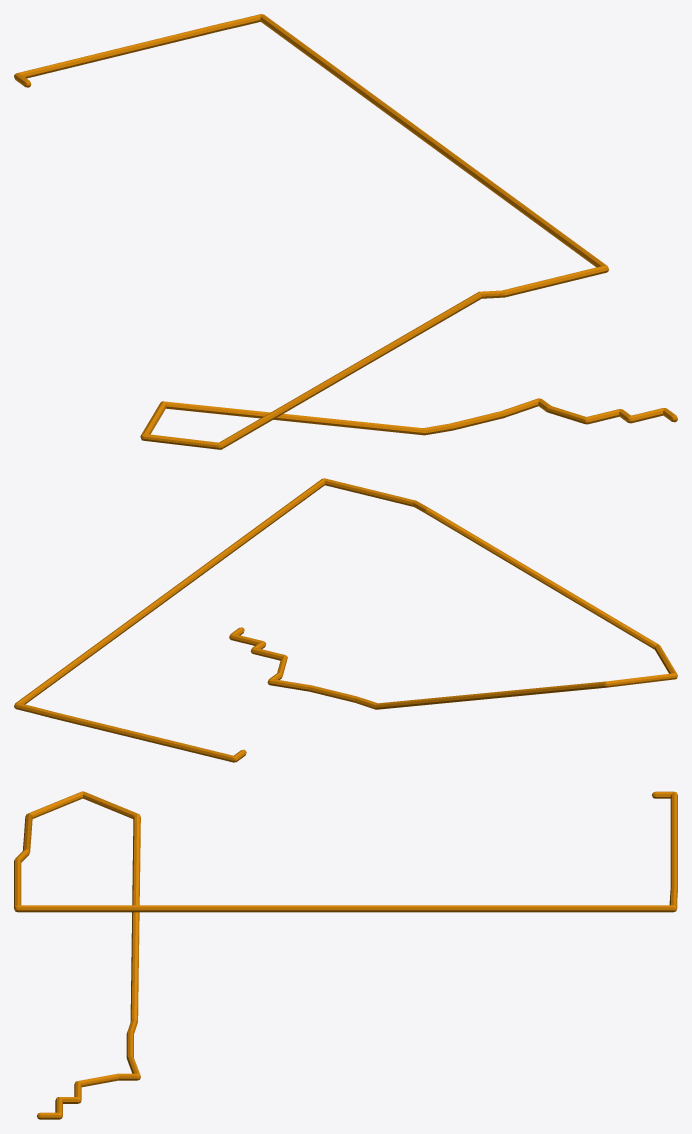
The picture shows the model from 3 angles, top to bottom: view 1: azimuth 30°, elevation 25°; view 2: azimuth 150°, elevation 25°; view 3: azimuth 270°, elevation 25°; orthographic projection. The views are drawn at different scales.
Size of the model in its own units: 1513 by 520 by 1772.
